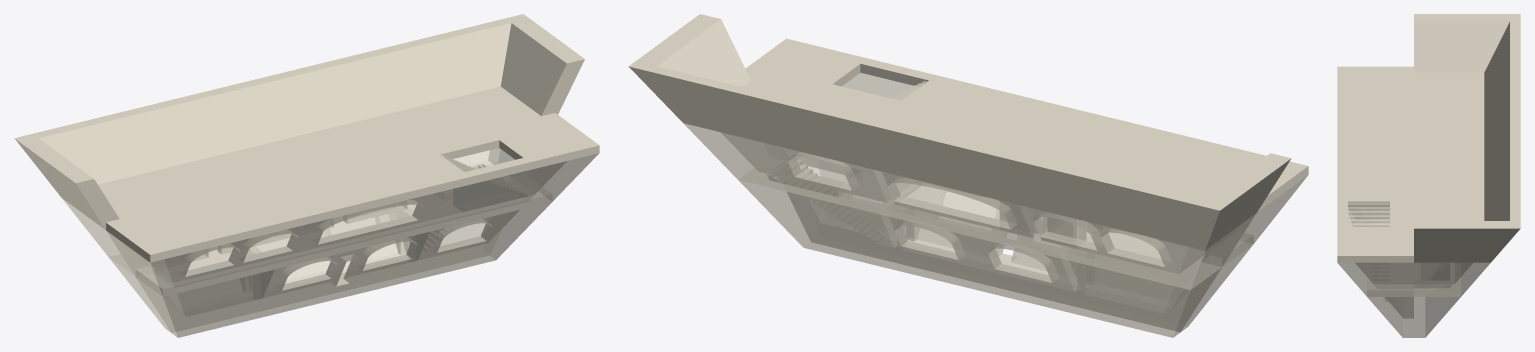
File: Apartment Base with Rooms.obj
The picture shows the model from 3 angles, left to right: view 1: azimuth 30°, elevation 25°; view 2: azimuth 150°, elevation 25°; view 3: azimuth 270°, elevation 25°; orthographic projection. The views are drawn at different scales.
Parts seen in each view (by area): view 1: Apartment_Base_with_Rooms; view 2: Apartment_Base_with_Rooms; view 3: Apartment_Base_with_Rooms.
Boxes of the visible parts, x1,y1,x2,y2 form: Apartment_Base_with_Rooms: [14, 14, 599, 337]; Apartment_Base_with_Rooms: [628, 14, 1308, 337]; Apartment_Base_with_Rooms: [1337, 14, 1520, 337].
Size of the model in its own units: 34.46 by 11.2 by 12.44.
